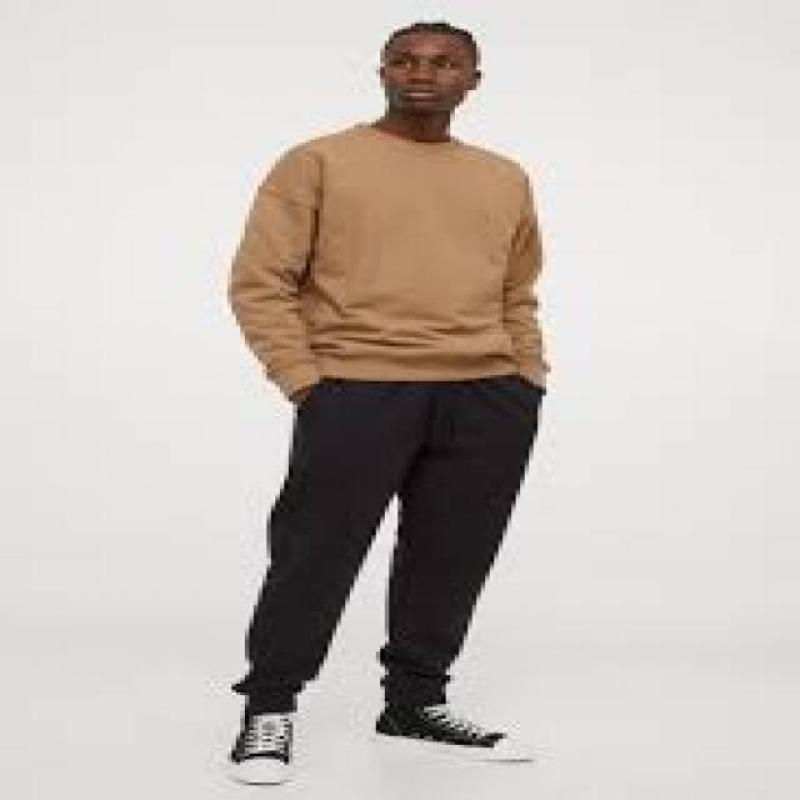sweater: (227, 120, 549, 397)
trousers: (229, 371, 545, 711)
